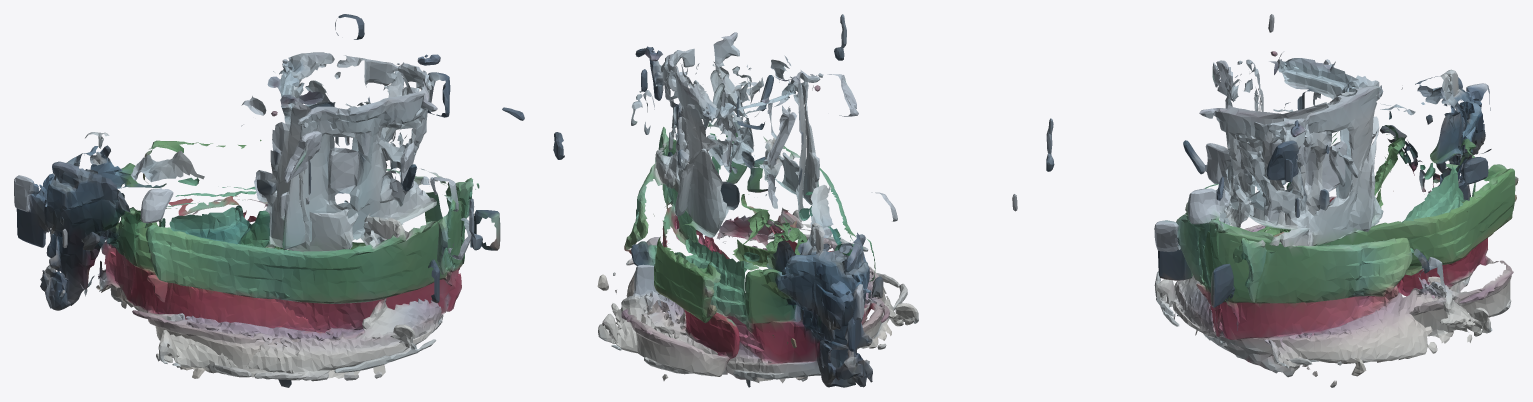
File: finished_model_20260520_122034.glb
3 renders of one model, left to right at view 1: azimuth 30°, elevation 25°; view 2: azimuth 150°, elevation 25°; view 3: azimuth 270°, elevation 25°, orthographic. The views are drawn at different scales.
Visible parts, largest first — view 1: finished_model_20260520_122034.ply; view 2: finished_model_20260520_122034.ply; view 3: finished_model_20260520_122034.ply.
Part boxes in pixels (<box>): finished_model_20260520_122034.ply: <box>14,14,524,387</box>; finished_model_20260520_122034.ply: <box>553,14,1017,387</box>; finished_model_20260520_122034.ply: <box>1046,14,1518,387</box>.
Bounding box in the file's own units: 0.208 × 0.1422 × 0.1965.
